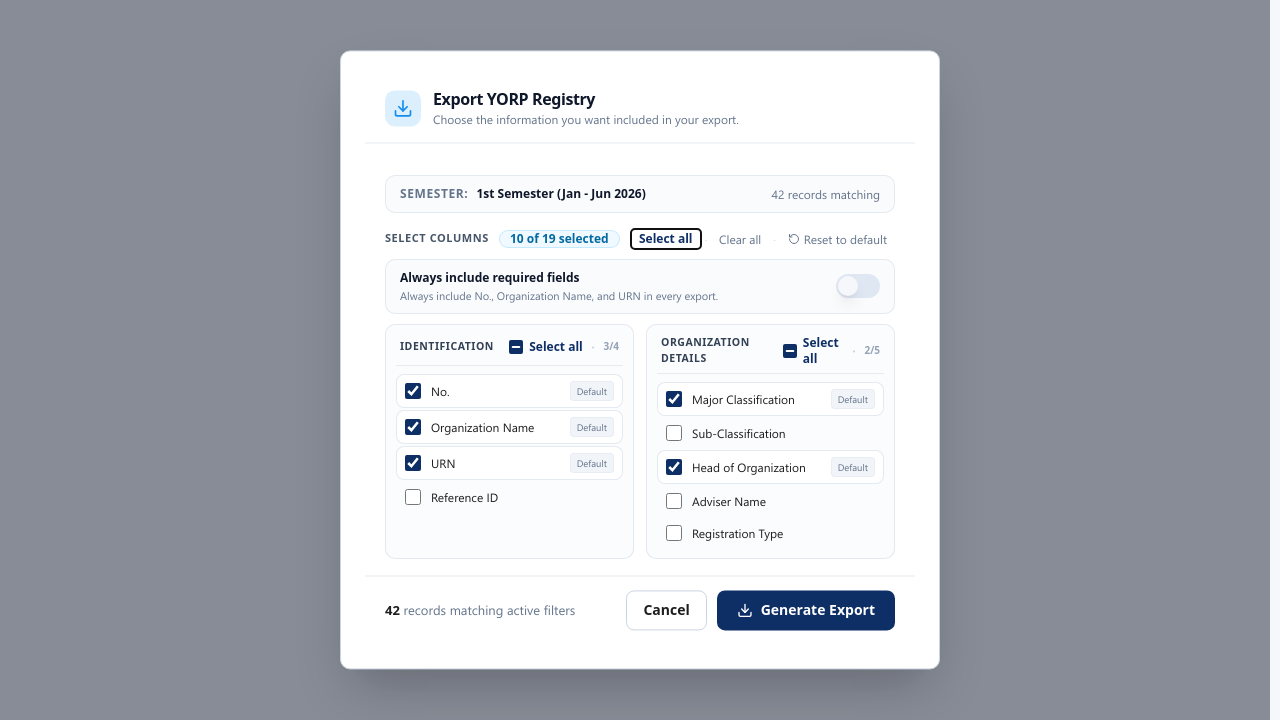
YorpRegistryExportDialog Per-Section Controls & Required Fields Option › H. Required mode + Clear all: clears optional fields while preserving required fields
This screenshot has width=1280, height=720.
// Enable required mode
Click the switch named "always include required fields".
click(858, 286)  # box [836,274,880,298]
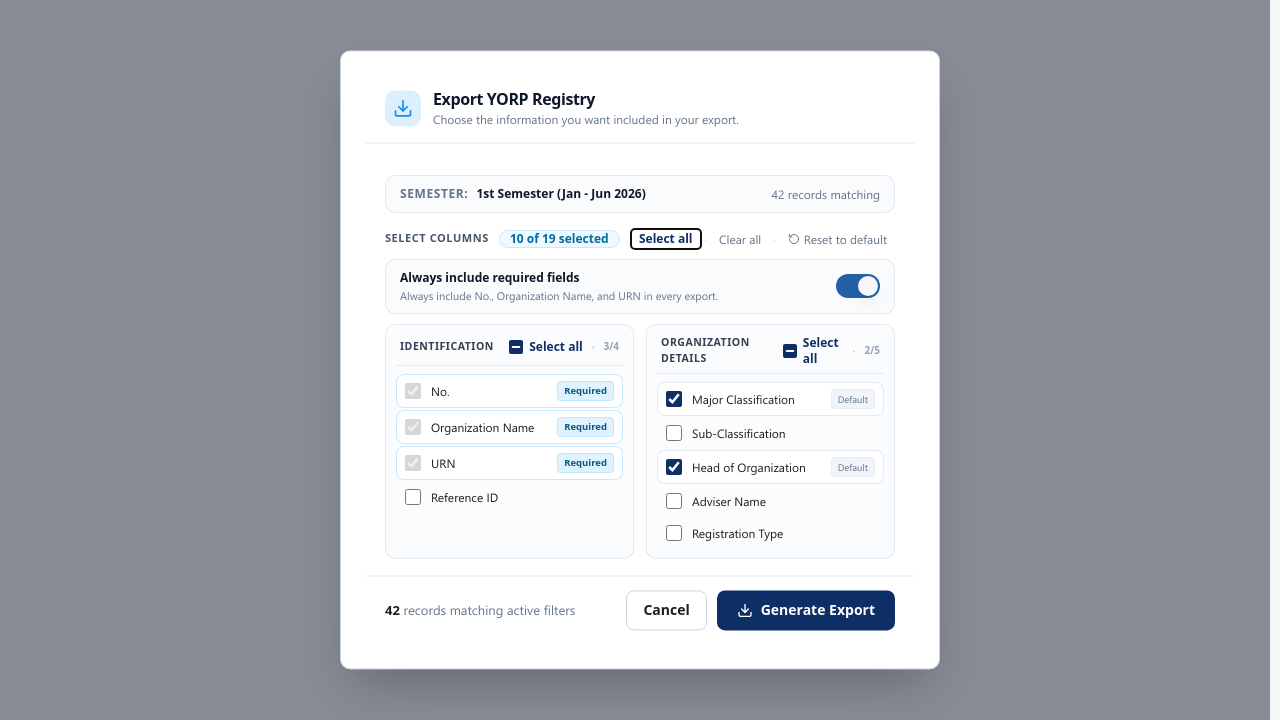
// Global select all (19/19)
Click the button "Select all".
click(666, 239)  # box [631,229,700,249]
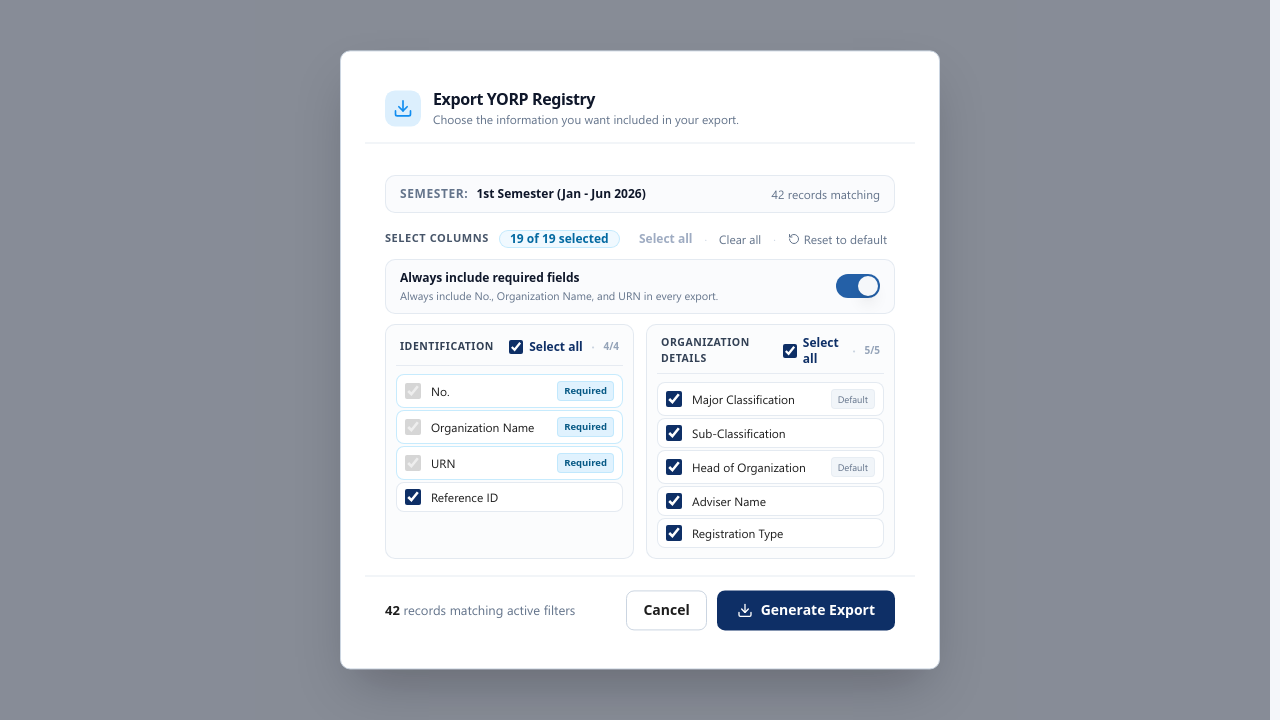
// Click Clear all
Click the button "Clear all".
click(740, 239)  # box [711,229,769,249]
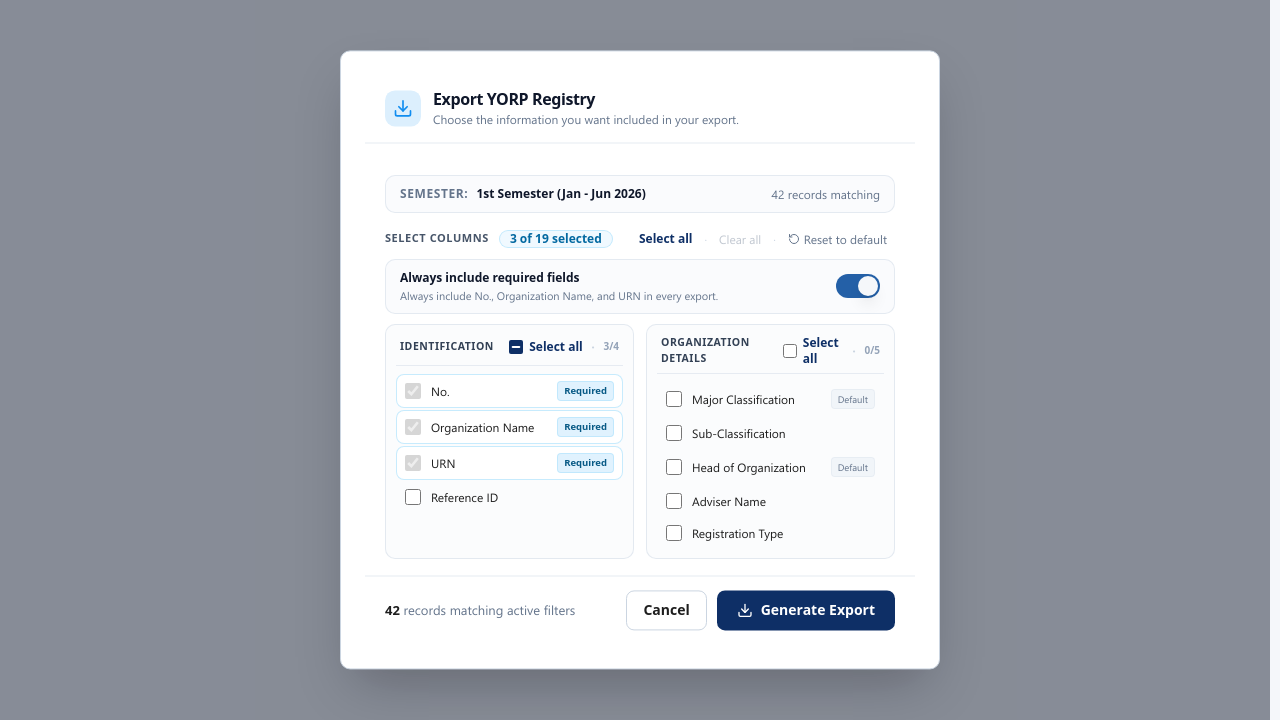
Expected: the checkbox labelled "No." is checked, [405,383,421,399]
Expected: the checkbox labelled "Reference ID" is not checked, [405,490,421,506]
Expected: the button "Clear all" is disabled, [711,229,769,249]
